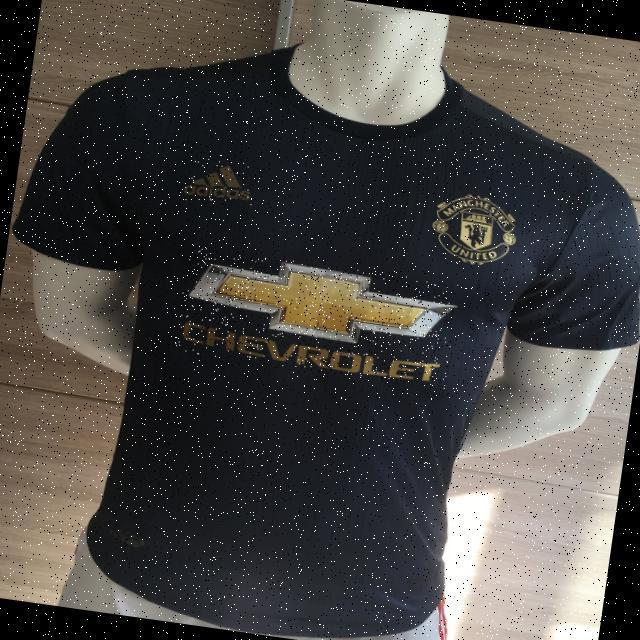Adidas: (175, 246, 460, 389), (182, 150, 259, 209)
